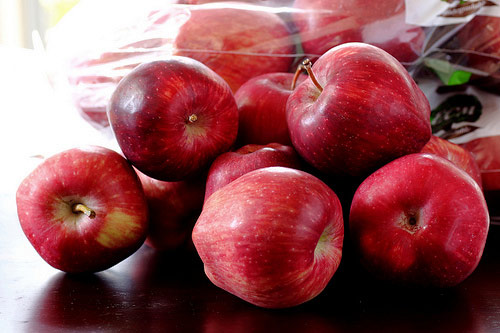apple: (189, 164, 346, 313), (343, 151, 492, 294), (286, 38, 435, 179), (13, 143, 151, 278), (103, 54, 241, 183)
